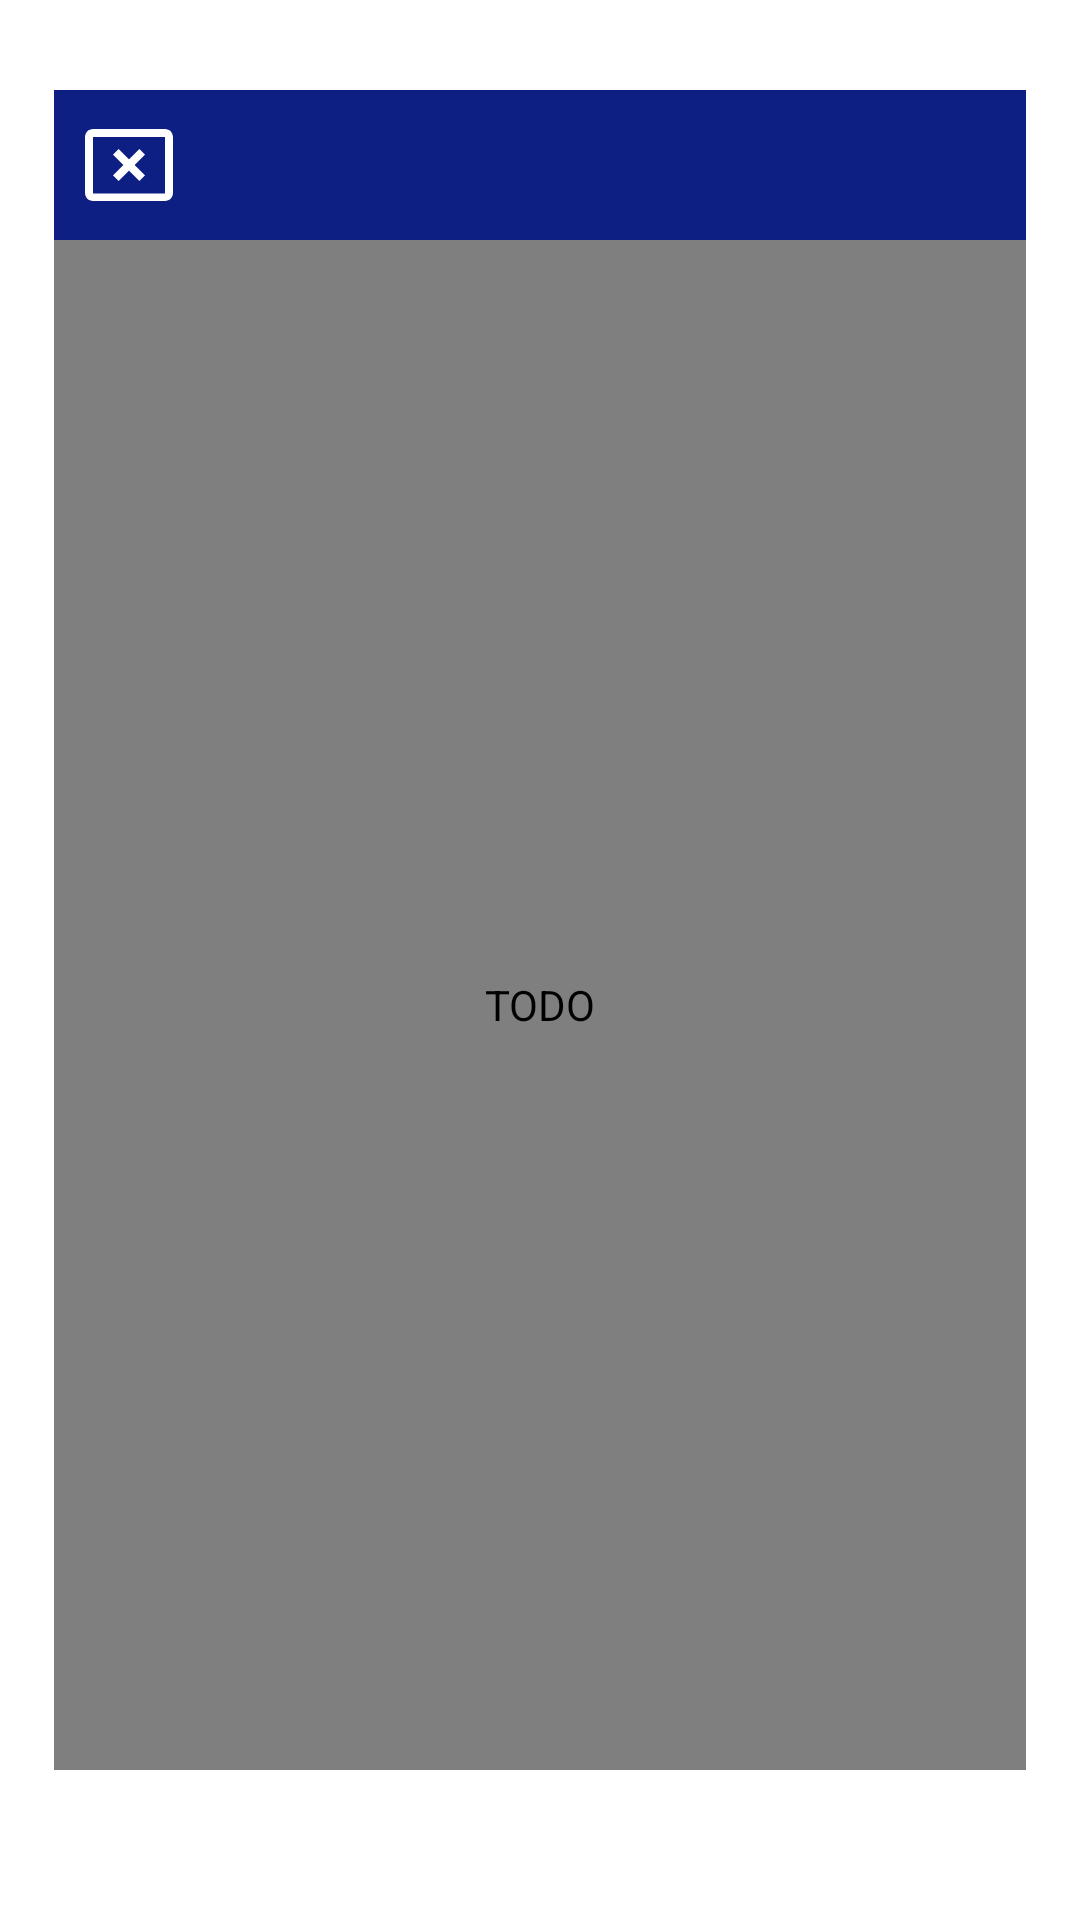

Named icons in this screenshot (1080×1920) and their centers, point (x, y):
cancel presentation: point (129, 165)
